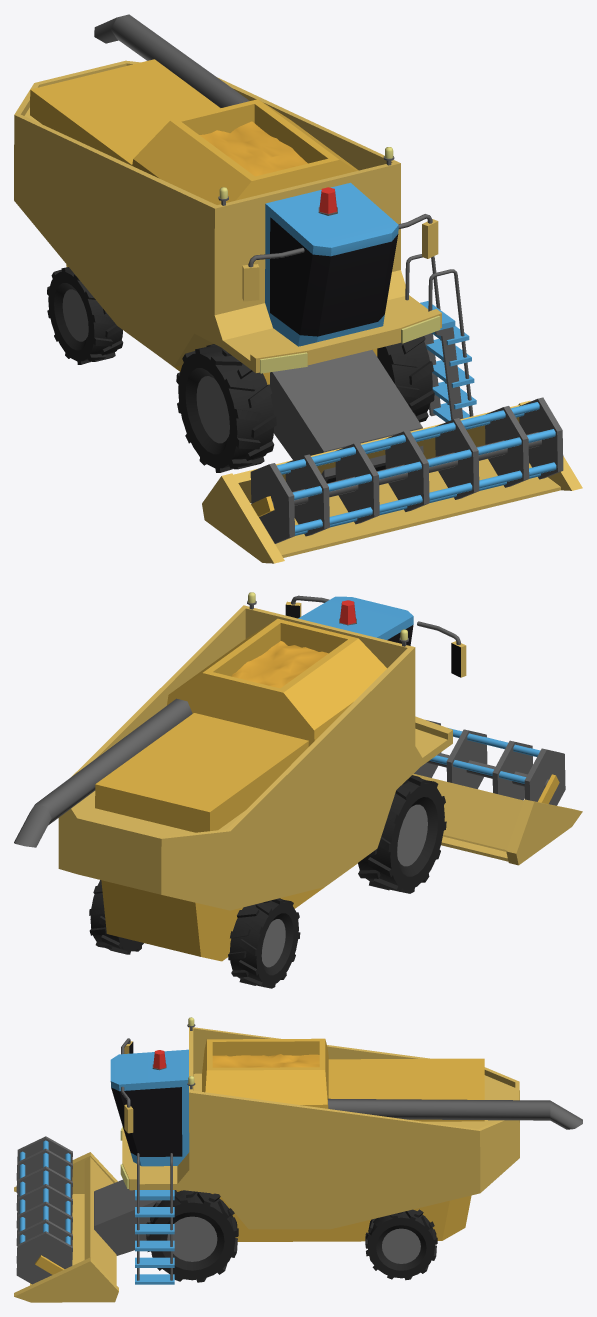
The model's file is Harvester_03.fbx.
3 renders of one model, top to bottom at view 1: azimuth 30°, elevation 25°; view 2: azimuth 150°, elevation 25°; view 3: azimuth 270°, elevation 25°, orthographic. The views are drawn at different scales.
Visible parts, largest first — view 1: Harvester_03, Harvester_03_Roll, Harvester_03_Roll_Cover, Harvester_03_Front_Tube; view 2: Harvester_03, Harvester_03_Roll_Cover, Harvester_03_Roll; view 3: Harvester_03, Harvester_03_Roll, Harvester_03_Roll_Cover, Harvester_03_Front_Tube.
Boxes of the visible parts, x1,y1,x2,y2 form: Harvester_03: (14,14,476,472); Harvester_03_Roll: (250,397,563,543); Harvester_03_Roll_Cover: (202,400,582,563); Harvester_03_Front_Tube: (270,349,423,483); Harvester_03: (14,592,466,988); Harvester_03_Roll_Cover: (412,773,582,865); Harvester_03_Roll: (414,720,565,805); Harvester_03: (110,1017,582,1284); Harvester_03_Roll: (16,1136,72,1284); Harvester_03_Roll_Cover: (14,1152,118,1302); Harvester_03_Front_Tube: (94,1179,161,1255).
Bounding box in the file's own units: 6.6 × 5.69 × 14.53.
